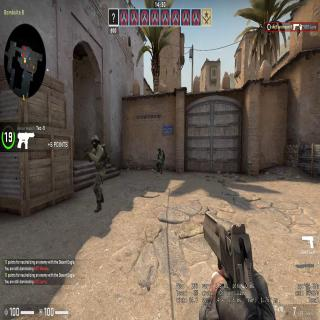CT-Body: (84, 131, 109, 211), (155, 146, 164, 171)
CT-Head: (90, 134, 99, 146), (157, 147, 162, 155)
